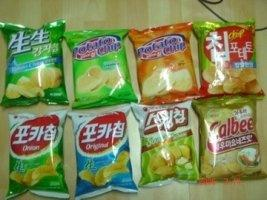snack: (67, 104, 138, 200), (191, 97, 267, 180), (0, 19, 70, 106), (128, 21, 200, 105), (192, 17, 265, 99), (63, 29, 138, 108), (131, 100, 199, 187), (5, 109, 70, 200)
